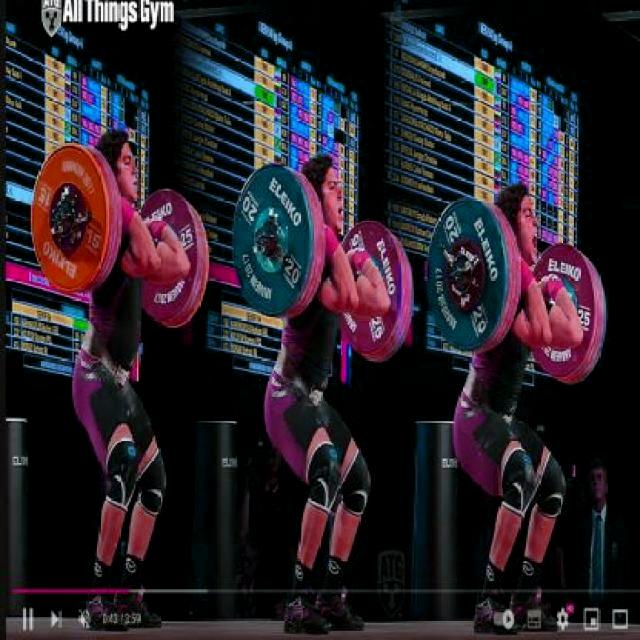barbell: (422, 188, 514, 360), (30, 133, 116, 302), (231, 155, 316, 322)
